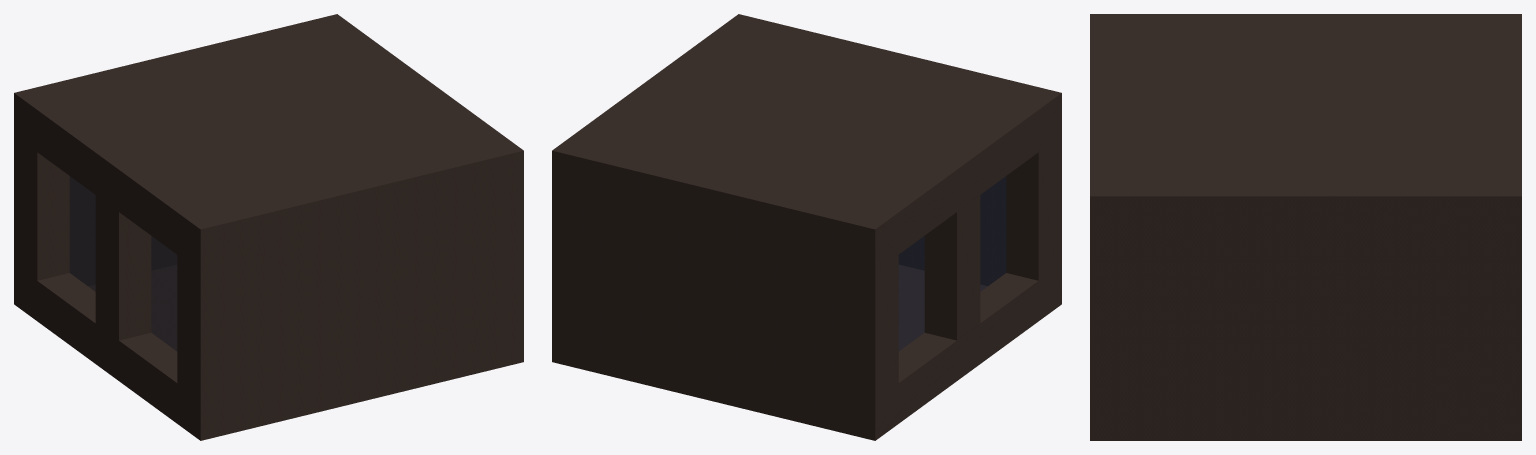
Rendered from modularBuildings_035.obj.
3 renders of one model, left to right at view 1: azimuth 30°, elevation 25°; view 2: azimuth 150°, elevation 25°; view 3: azimuth 270°, elevation 25°, orthographic. The views are drawn at different scales.
Visible parts, largest first — view 1: Mesh1 Group1 Model; view 2: Mesh1 Group1 Model; view 3: Mesh1 Group1 Model.
Boxes of the visible parts, x1,y1,x2,y2 form: Mesh1 Group1 Model: (14, 14, 523, 440); Mesh1 Group1 Model: (552, 14, 1061, 440); Mesh1 Group1 Model: (1090, 14, 1521, 440).
Bounding box in the file's own units: 1 × 0.625 × 1.
Materials: 2 (2 with a texture image).
